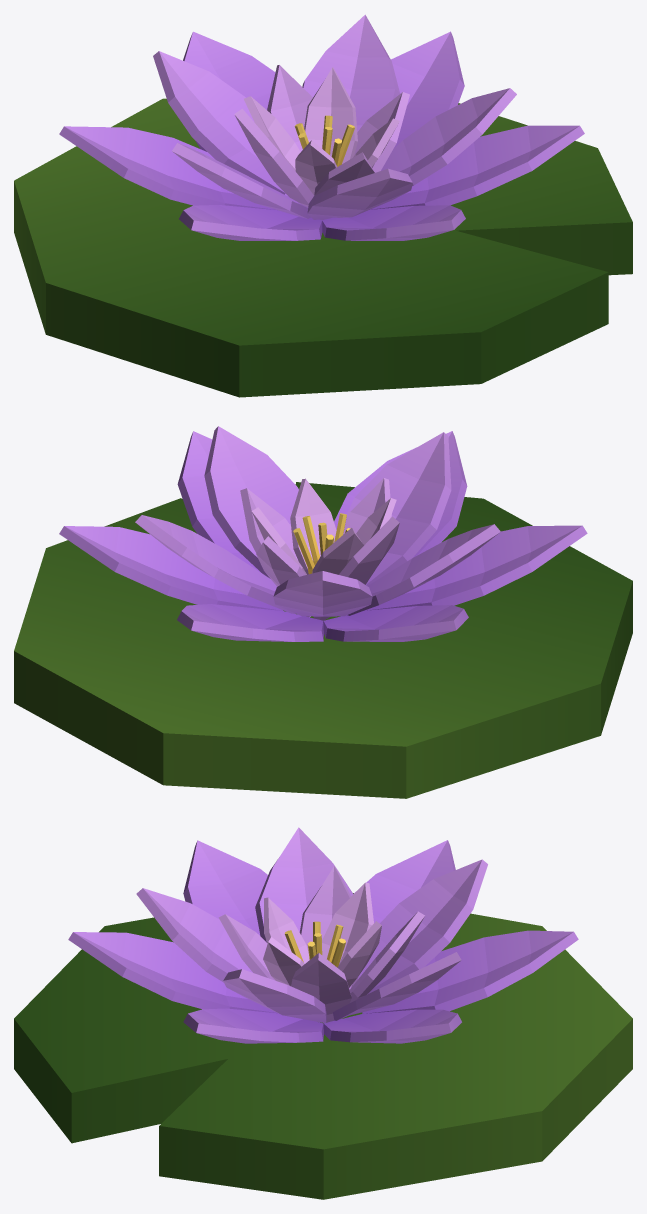
The model's file is water lily purple.fbx.
3 views of the same model, one above another, from view 1: azimuth 30°, elevation 25°; view 2: azimuth 150°, elevation 25°; view 3: azimuth 270°, elevation 25° (orthographic). The views are drawn at different scales.
Parts seen in each view (by area): view 1: water lily purple; view 2: water lily purple; view 3: water lily purple.
Part boxes in pixels (<box>): water lily purple: <box>14,14,632,397</box>; water lily purple: <box>14,426,632,798</box>; water lily purple: <box>14,827,632,1199</box>.
Bounding box in the file's own units: 63.18 × 19.28 × 63.18.
